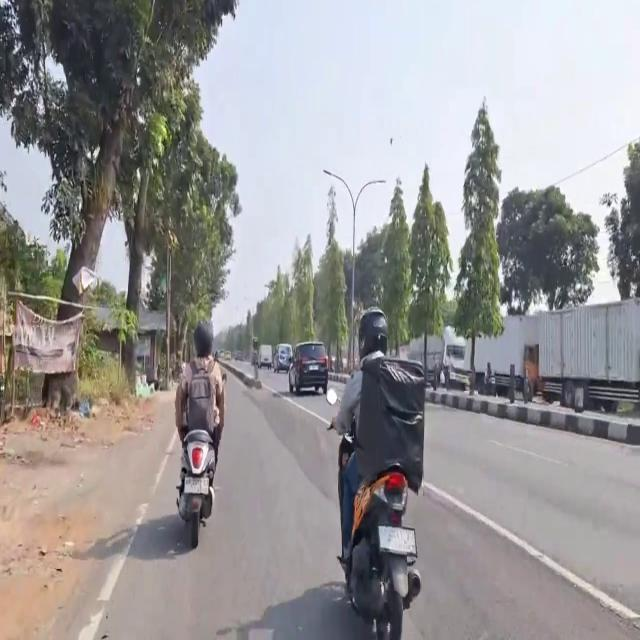WithHelmet: (328, 307, 390, 570), (175, 321, 227, 491)
